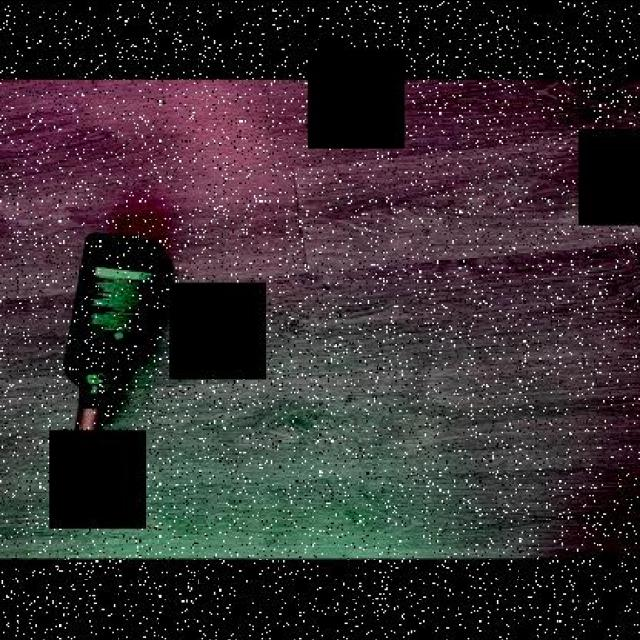glass: (52, 212, 164, 442)
